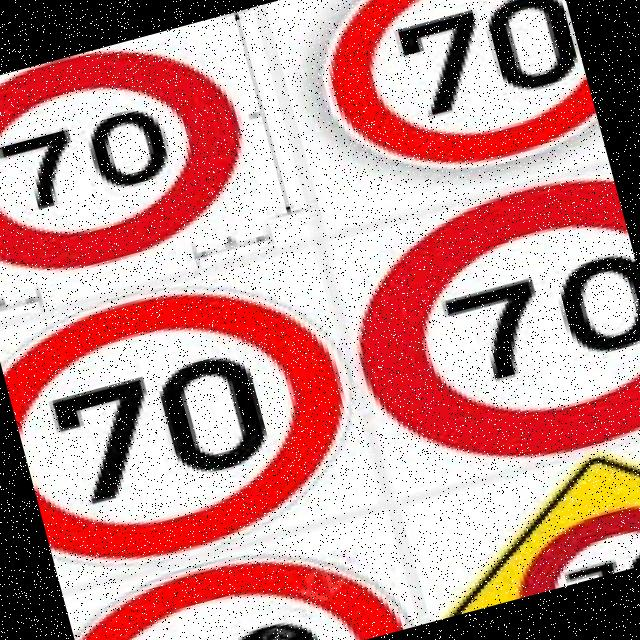speed_limit_70: (0, 246, 382, 592), (314, 159, 640, 500), (0, 20, 276, 299), (296, 0, 605, 213), (65, 518, 418, 640), (504, 486, 640, 597)
